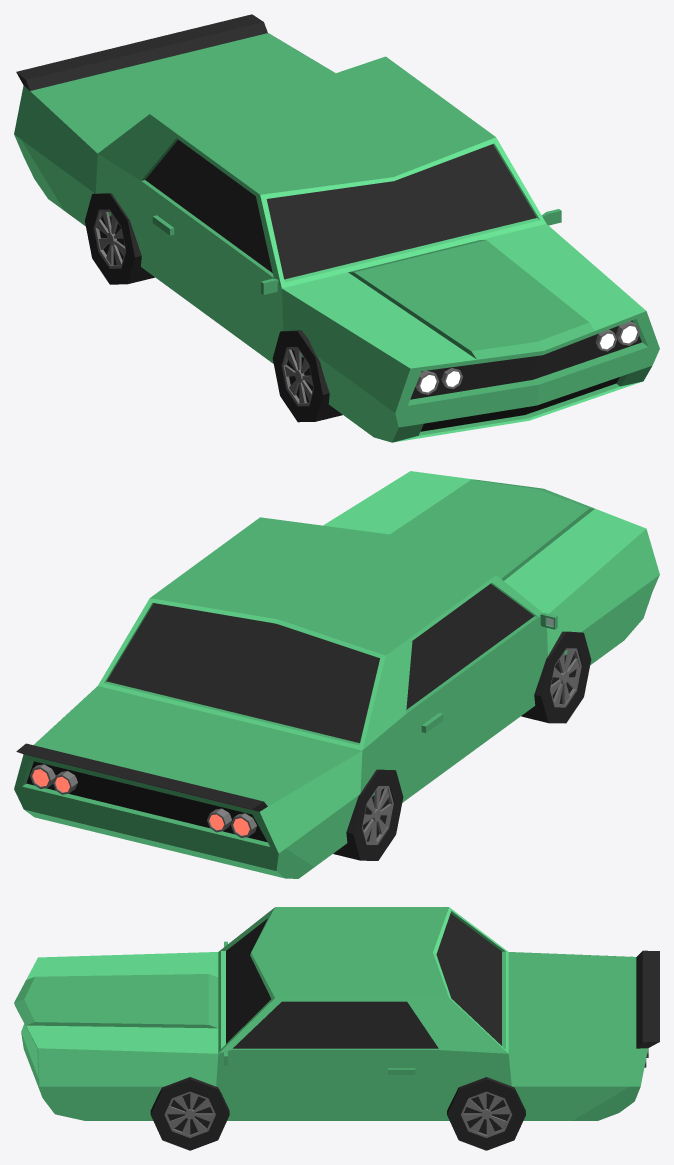
The model's file is car_1.fbx.
3 renders of one model, top to bottom at view 1: azimuth 30°, elevation 25°; view 2: azimuth 150°, elevation 25°; view 3: azimuth 270°, elevation 25°, orthographic. The views are drawn at different scales.
Parts seen in each view (by area): view 1: sport_car; view 2: sport_car; view 3: sport_car.
Boxes of the visible parts, x1,y1,x2,y2 form: sport_car: [14, 14, 659, 442]; sport_car: [14, 471, 659, 878]; sport_car: [14, 907, 659, 1150].
Bounding box in the file's own units: 213 × 125 × 506.
